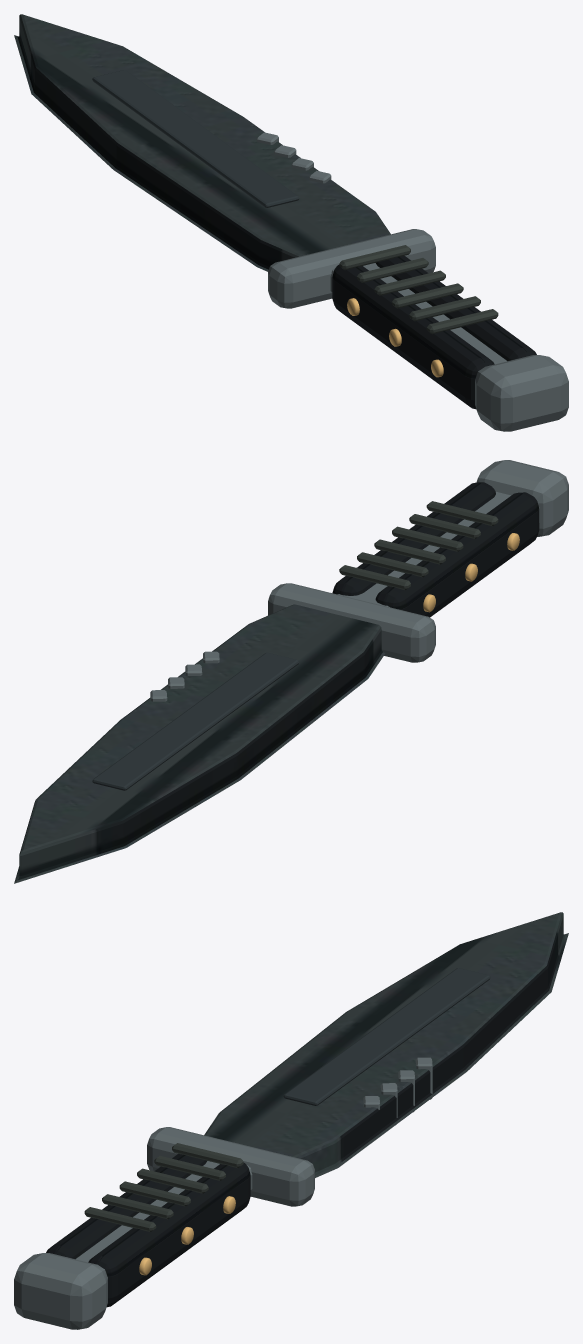
The model's file is pass65-field-knife-world-lod0.glb.
3 renders of one model, top to bottom at view 1: azimuth 30°, elevation 25°; view 2: azimuth 150°, elevation 25°; view 3: azimuth 330°, elevation 25°, orthographic.
Parts seen in each view (by area): view 1: FieldKnife_Blade_world-lod0_Mesh, Cube_001.036, field-knife-fuller, Cube_001.047, Cube_001.033, Cube_001.035, Cube_001.034, Cube_001.039, Cube_001.040, Cube_001.041, Cube_001.042, Cube_001.038 (+1 smaller); view 2: FieldKnife_Blade_world-lod0_Mesh, Cube_001.036, field-knife-fuller, Cube_001.033, Cube_001.047, Cube_001.035, Cube_001.034, Cube_001.037, Cube_001.042, Cube_001.039, Cube_001.040, Cube_001.038 (+1 smaller); view 3: FieldKnife_Blade_world-lod0_Mesh, Cube_001.035, field-knife-fuller, Cube_001.047, Cube_001.033, Cube_001.036, Cube_001.034, Cube_001.039, Cube_001.038, Cube_001.040, Cube_001.041, Cube_001.042 (+1 smaller).
Boxes of the visible parts, x1,y1,x2,y2 form: FieldKnife_Blade_world-lod0_Mesh: [14, 14, 390, 271]; Cube_001.036: [332, 265, 494, 409]; field-knife-fuller: [92, 70, 299, 207]; Cube_001.047: [475, 355, 568, 431]; Cube_001.033: [268, 229, 435, 308]; Cube_001.035: [376, 256, 536, 361]; Cube_001.034: [330, 263, 506, 364]; Cube_001.039: [374, 270, 445, 295]; Cube_001.040: [392, 283, 463, 308]; Cube_001.041: [409, 296, 480, 321]; Cube_001.042: [426, 309, 498, 334]; Cube_001.038: [357, 258, 428, 282]; FieldKnife_Blade_world-lod0_Mesh: [14, 604, 385, 883]; Cube_001.036: [375, 492, 539, 617]; field-knife-fuller: [92, 652, 299, 790]; Cube_001.033: [268, 583, 435, 662]; Cube_001.047: [476, 460, 568, 536]; Cube_001.035: [332, 482, 495, 595]; Cube_001.034: [337, 491, 539, 607]; Cube_001.037: [339, 565, 410, 590]; Cube_001.042: [426, 501, 498, 526]; Cube_001.039: [374, 539, 445, 564]; Cube_001.040: [392, 526, 463, 551]; Cube_001.038: [357, 552, 428, 577]; FieldKnife_Blade_world-lod0_Mesh: [204, 912, 568, 1177]; Cube_001.035: [88, 1163, 250, 1307]; field-knife-fuller: [283, 968, 490, 1105]; Cube_001.047: [14, 1253, 107, 1329]; Cube_001.033: [147, 1127, 314, 1206]; Cube_001.036: [46, 1154, 206, 1259]; Cube_001.034: [76, 1161, 252, 1262]; Cube_001.039: [137, 1168, 208, 1193]; Cube_001.038: [154, 1156, 225, 1180]; Cube_001.040: [119, 1181, 190, 1206]; Cube_001.041: [102, 1194, 173, 1219]; Cube_001.042: [84, 1207, 156, 1232].
Size of the model in its own units: 0.39 by 0.141 by 2.25.
6 materials, 2 textured.
